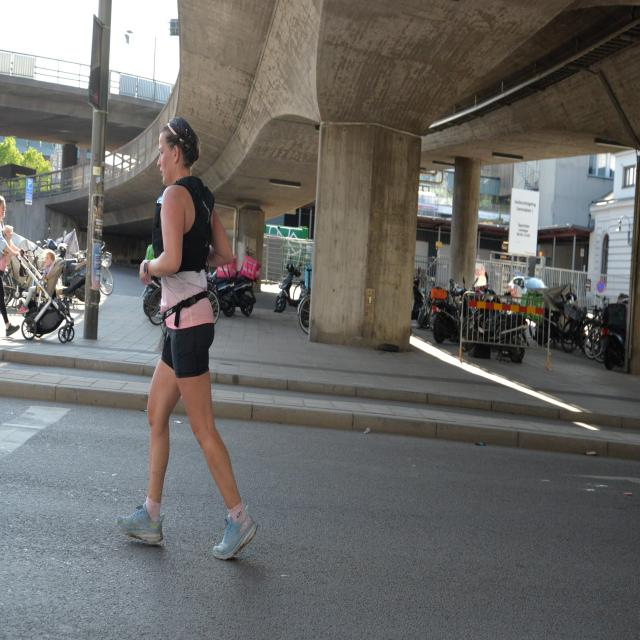runner-detect: (111, 84, 261, 567)
